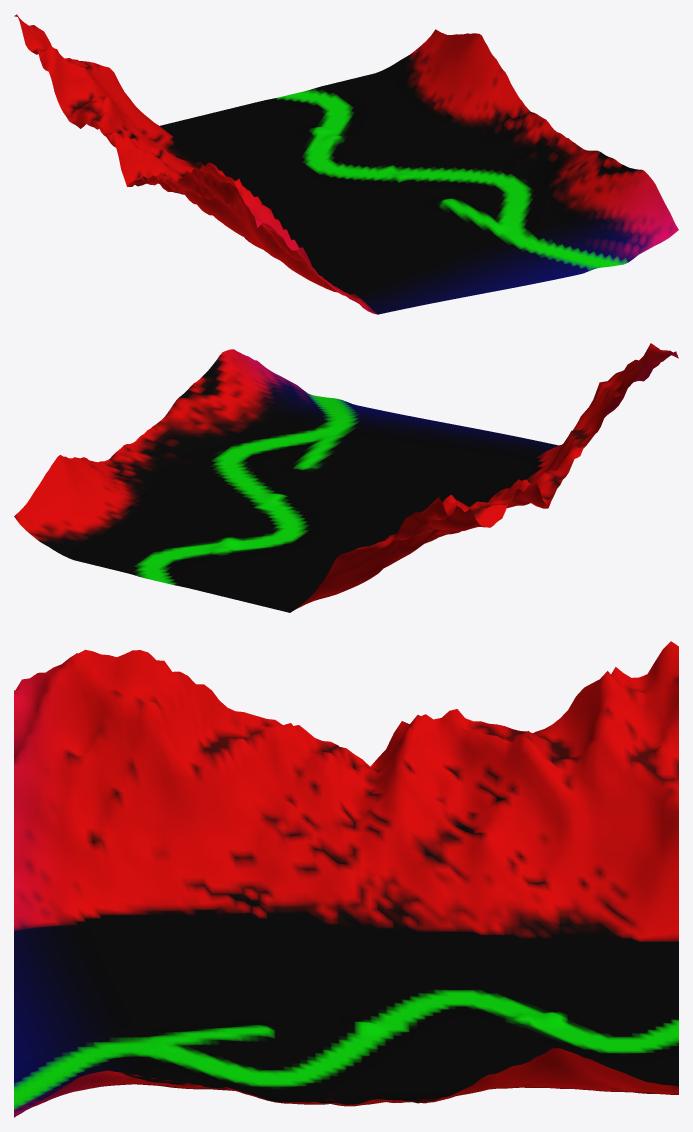
The model's file is SM_FutureCity_Terrain_1_0.fbx.
3 views of the same model, one above another, from view 1: azimuth 30°, elevation 25°; view 2: azimuth 150°, elevation 25°; view 3: azimuth 270°, elevation 25° (orthographic). The views are drawn at different scales.
Visible parts, largest first — view 1: SM_FutureCity_Terrain_1_0; view 2: SM_FutureCity_Terrain_1_0; view 3: SM_FutureCity_Terrain_1_0.
Part boxes in pixels (x1=…): SM_FutureCity_Terrain_1_0: x1=14, y1=14, x2=678, y2=314; SM_FutureCity_Terrain_1_0: x1=14, y1=343, x2=678, y2=612; SM_FutureCity_Terrain_1_0: x1=14, y1=641, x2=678, y2=1117.
Size of the model in its own units: 50400 by 18689 by 50400.
